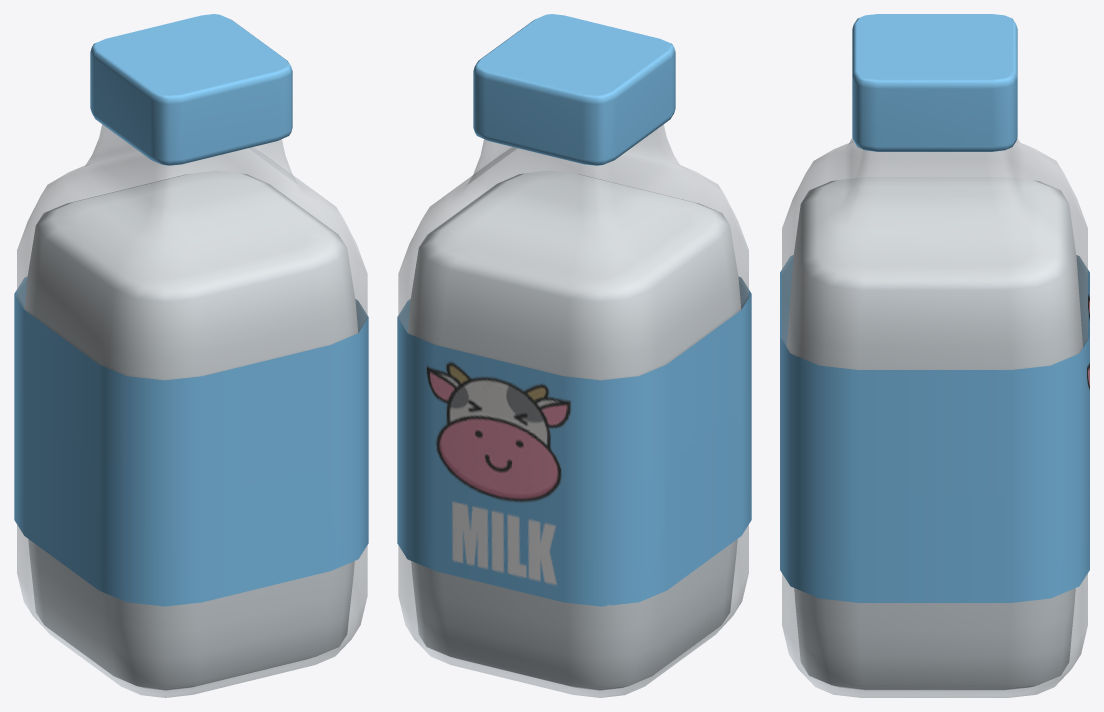
Rendered from chai sua bo.fbx.
The picture shows the model from 3 angles, left to right: view 1: azimuth 30°, elevation 25°; view 2: azimuth 150°, elevation 25°; view 3: azimuth 270°, elevation 25°; orthographic projection. The views are drawn at different scales.
Visible parts, largest first — view 1: nuoc_ep_dau_polySurface3, polySurface7; view 2: nuoc_ep_dau_polySurface3, polySurface7; view 3: nuoc_ep_dau_polySurface3, polySurface7.
Boxes of the visible parts, bbox=[...] form: nuoc_ep_dau_polySurface3: bbox=[14, 14, 368, 690]; polySurface7: bbox=[17, 124, 367, 697]; nuoc_ep_dau_polySurface3: bbox=[397, 14, 751, 690]; polySurface7: bbox=[398, 124, 748, 697]; nuoc_ep_dau_polySurface3: bbox=[780, 14, 1089, 690]; polySurface7: bbox=[782, 138, 1087, 697].
Bounding box in the file's own units: 67.8 × 147 × 68.1.
2 materials, 2 textured.
